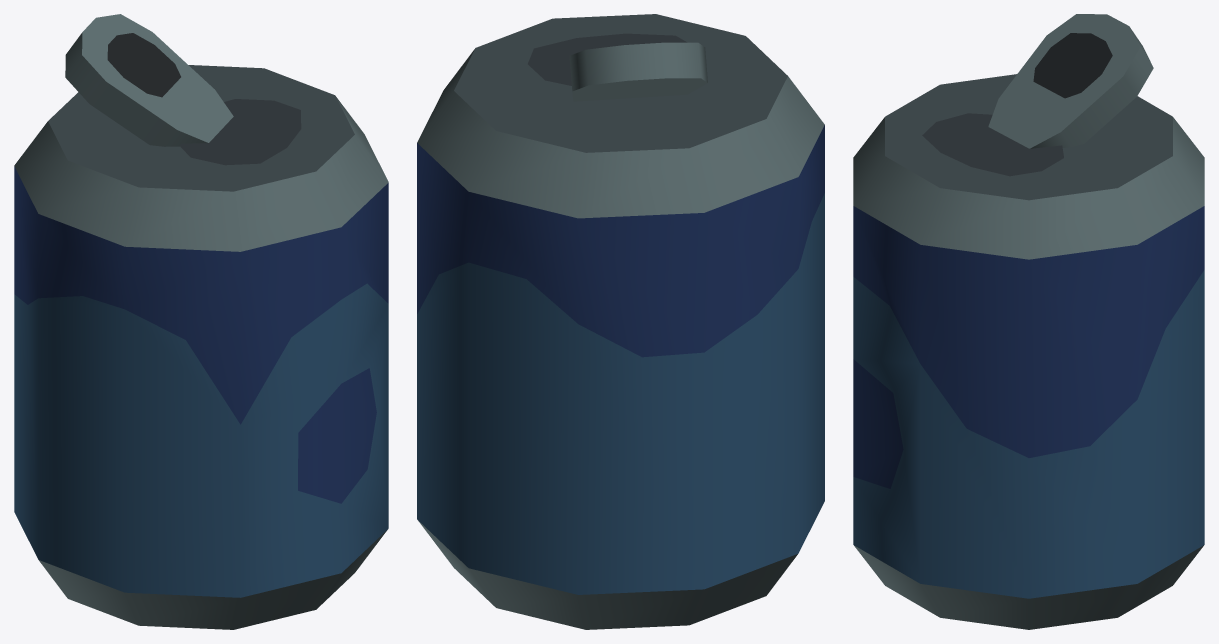
Rendered from Item_Bottle_Mesh.fbx.
3 renders of one model, left to right at view 1: azimuth 30°, elevation 25°; view 2: azimuth 150°, elevation 25°; view 3: azimuth 270°, elevation 25°, orthographic. The views are drawn at different scales.
Parts seen in each view (by area): view 1: Item_Bottle_Mesh; view 2: Item_Bottle_Mesh; view 3: Item_Bottle_Mesh.
Part boxes in pixels (x1=…): Item_Bottle_Mesh: x1=14, y1=14, x2=388, y2=629; Item_Bottle_Mesh: x1=417, y1=14, x2=824, y2=629; Item_Bottle_Mesh: x1=853, y1=14, x2=1204, y2=629.
Bounding box in the file's own units: 17.68 × 27.14 × 16.81.
